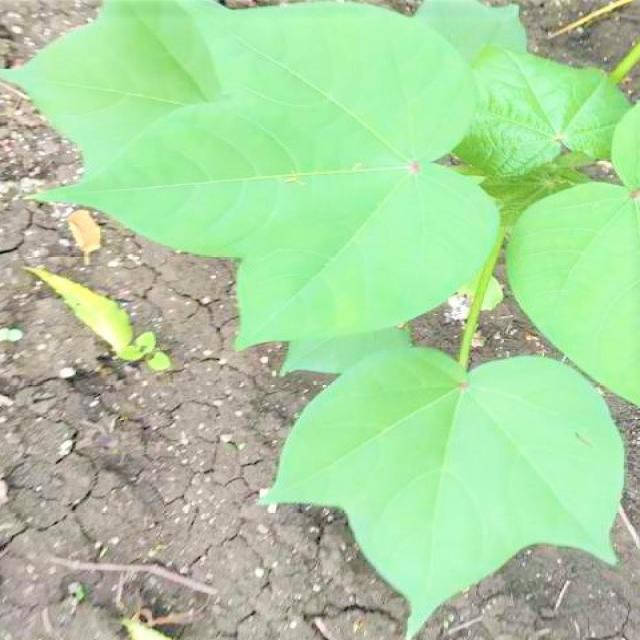Healthy Leaf: (10, 2, 620, 640)
